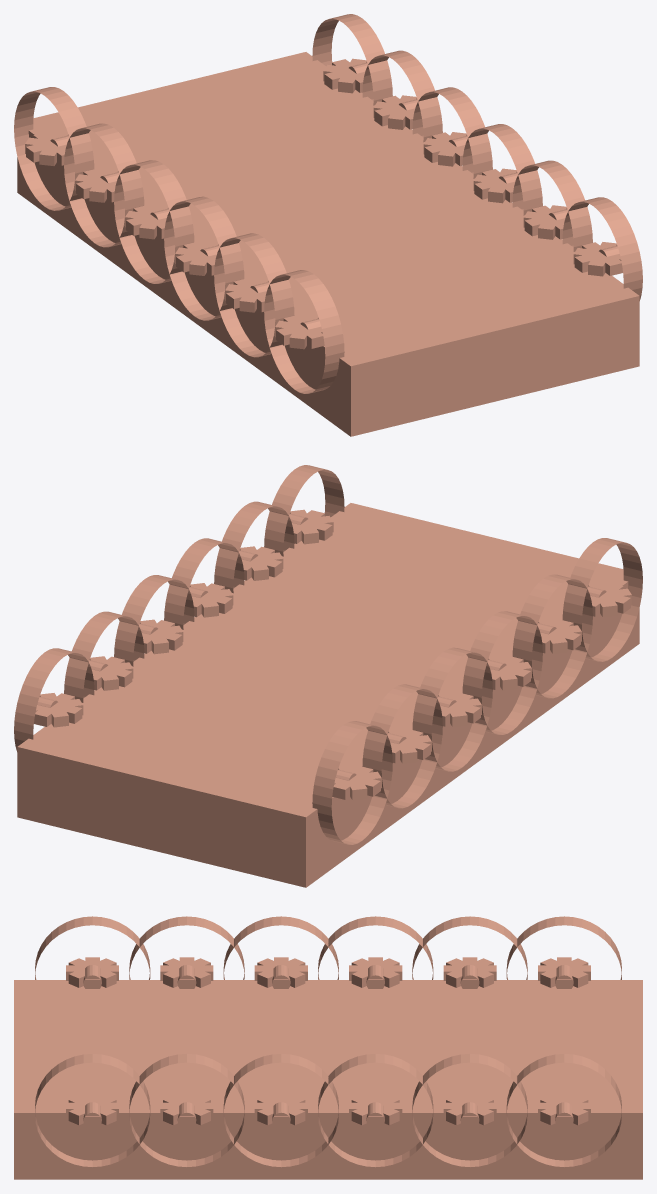
The model's file is sun_temple_s2.glb.
3 views of the same model, one above another, from view 1: azimuth 30°, elevation 25°; view 2: azimuth 150°, elevation 25°; view 3: azimuth 270°, elevation 25° (orthographic). The views are drawn at different scales.
Visible parts, largest first — view 1: sun_temple; view 2: sun_temple; view 3: sun_temple.
Boxes of the visible parts, x1,y1,x2,y2 form: sun_temple: (14, 14, 642, 436); sun_temple: (14, 465, 642, 887); sun_temple: (14, 916, 642, 1179).
Size of the model in its own units: 27.74 by 10 by 46.15.
